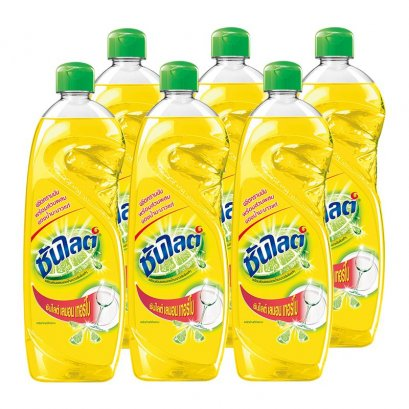Cleaning_solution: (14, 62, 129, 388), (229, 61, 338, 388), (126, 59, 229, 387), (293, 25, 391, 348)
